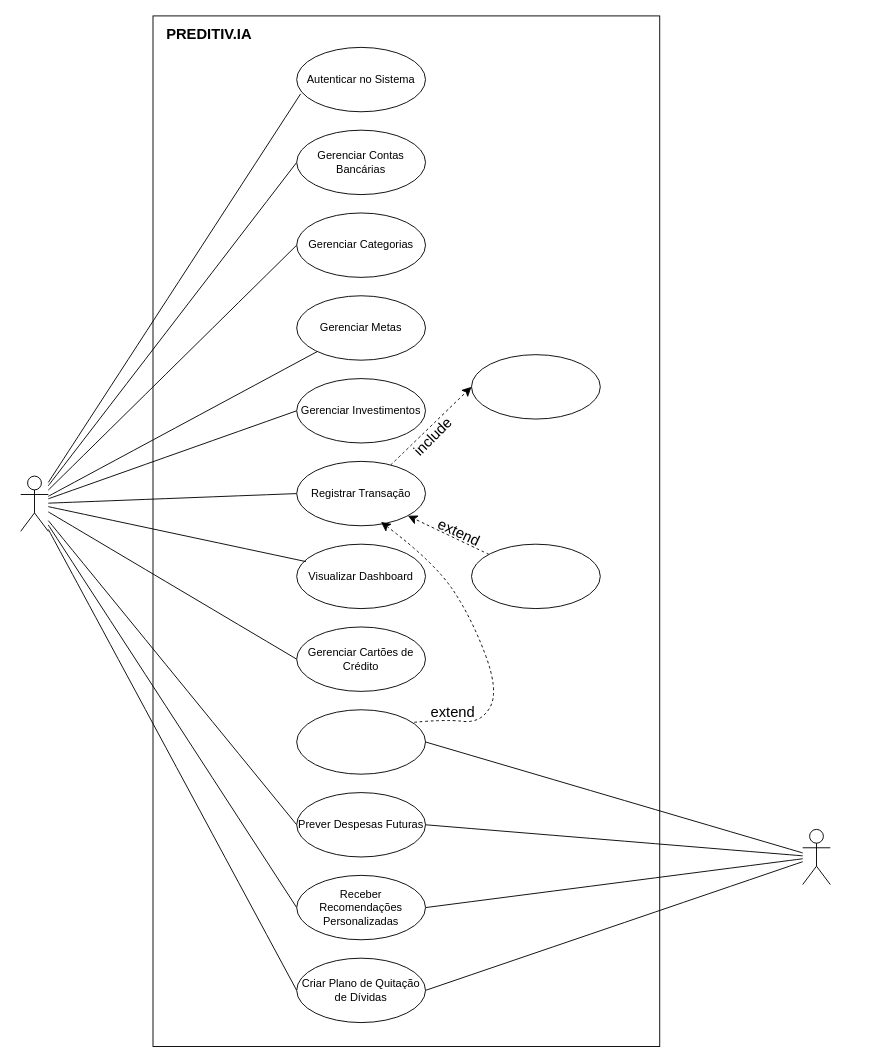
The diagram is 880 pixels wide and 1064 high, and some of its shapes have lost their labels. The shapes that lost their labels are listed below. From the top down, each one's centre as x and y in pixels, then its label:
At (535,386): "Atualizar Saldo da Conta".
At (34,503): "Usuário".
At (535,576): "Estornar Transação".
At (361,741): "Categorizar Gastos Automaticamente".
At (816,856): "Inteligência Artificial".
